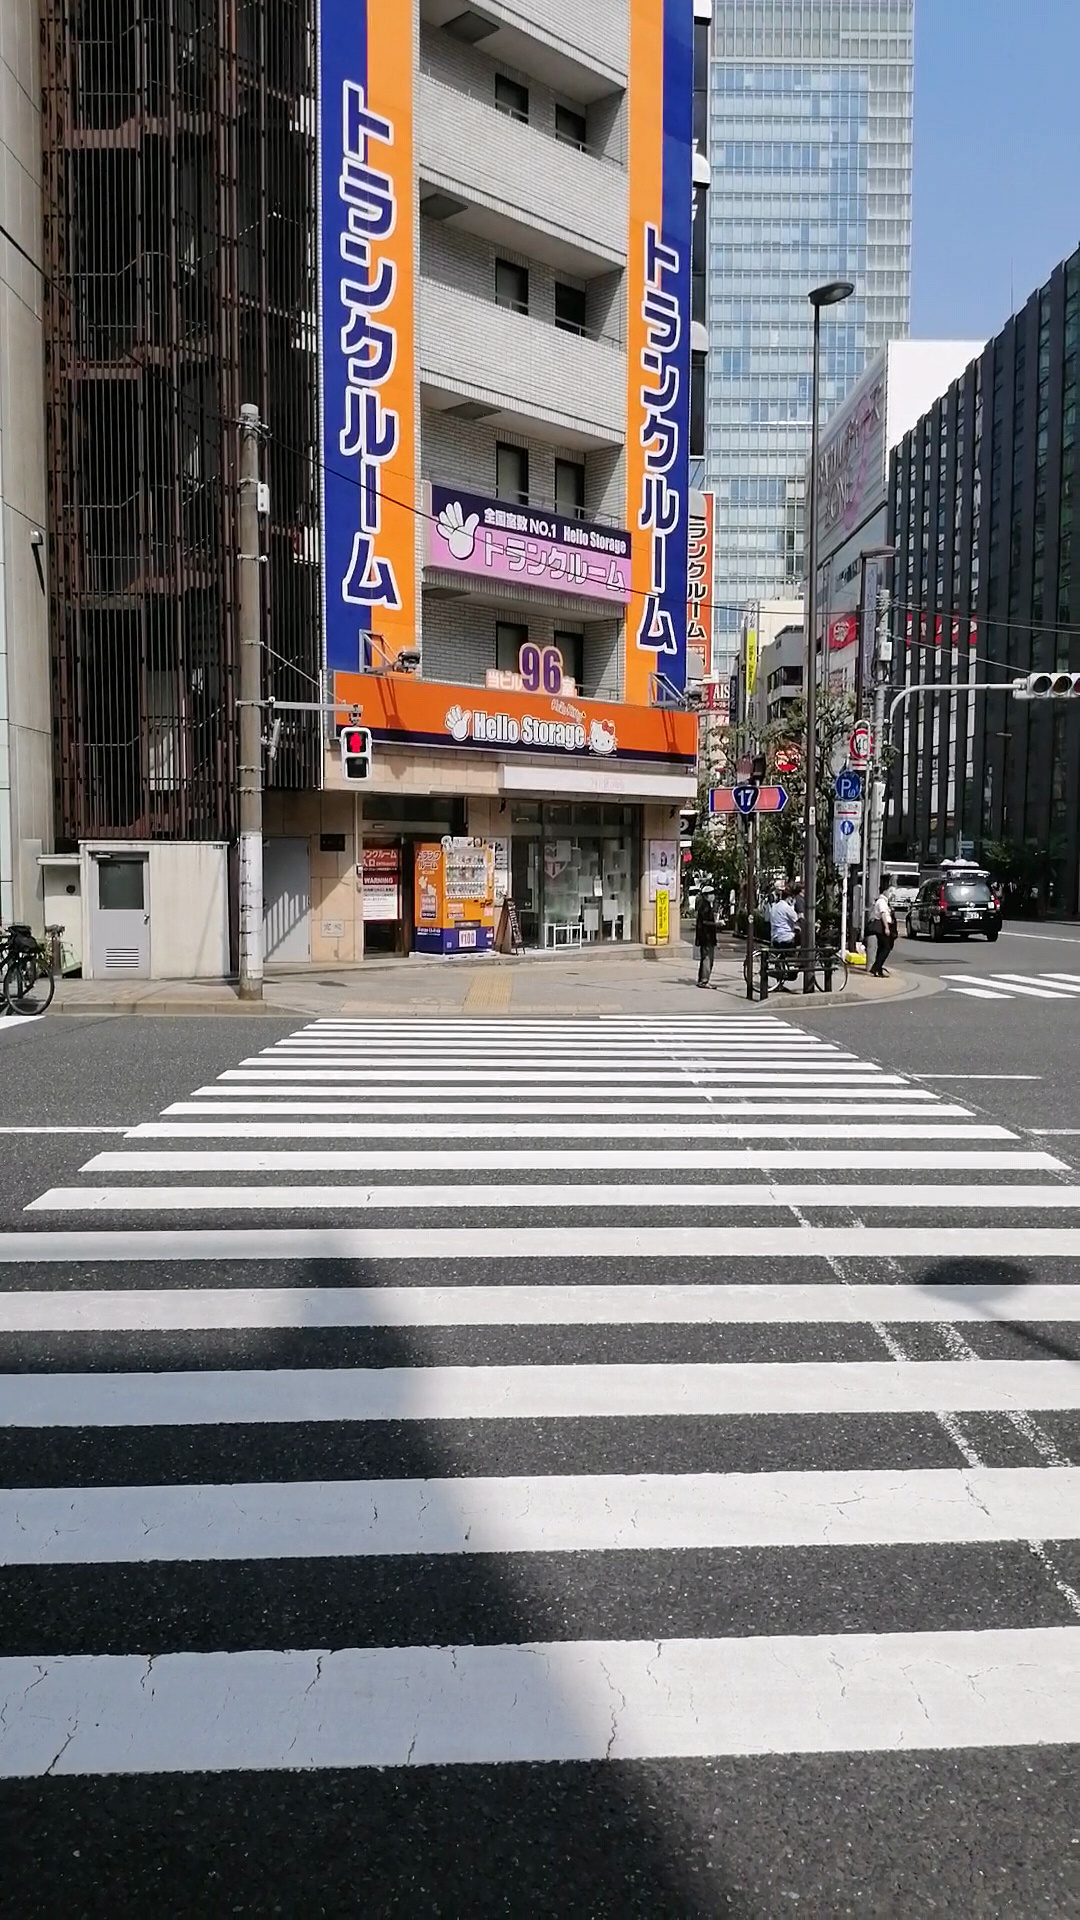red: (338, 725, 373, 781)
